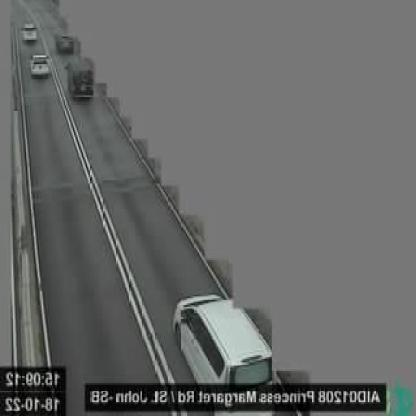Car: (174, 292, 274, 396), (66, 58, 95, 102), (29, 52, 53, 78), (52, 32, 74, 54), (20, 22, 37, 44)
